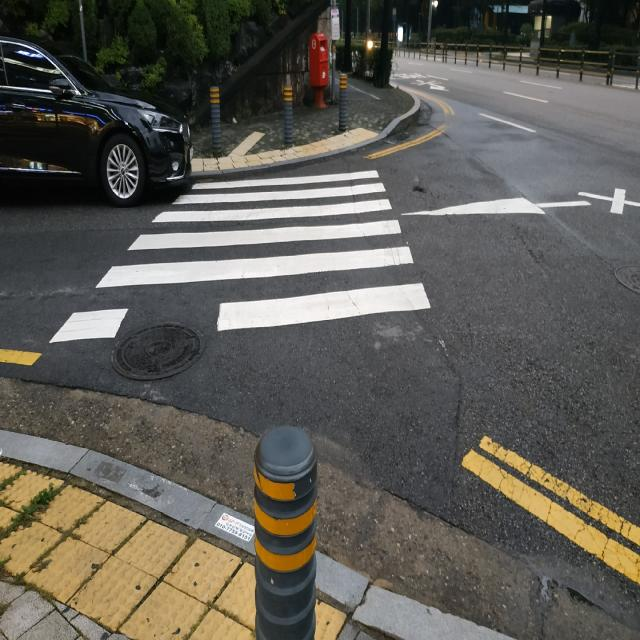횡단보도: (49, 170, 431, 342)
